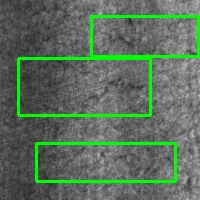crazing: (18, 58, 150, 115), (36, 143, 175, 181), (91, 16, 198, 56)
